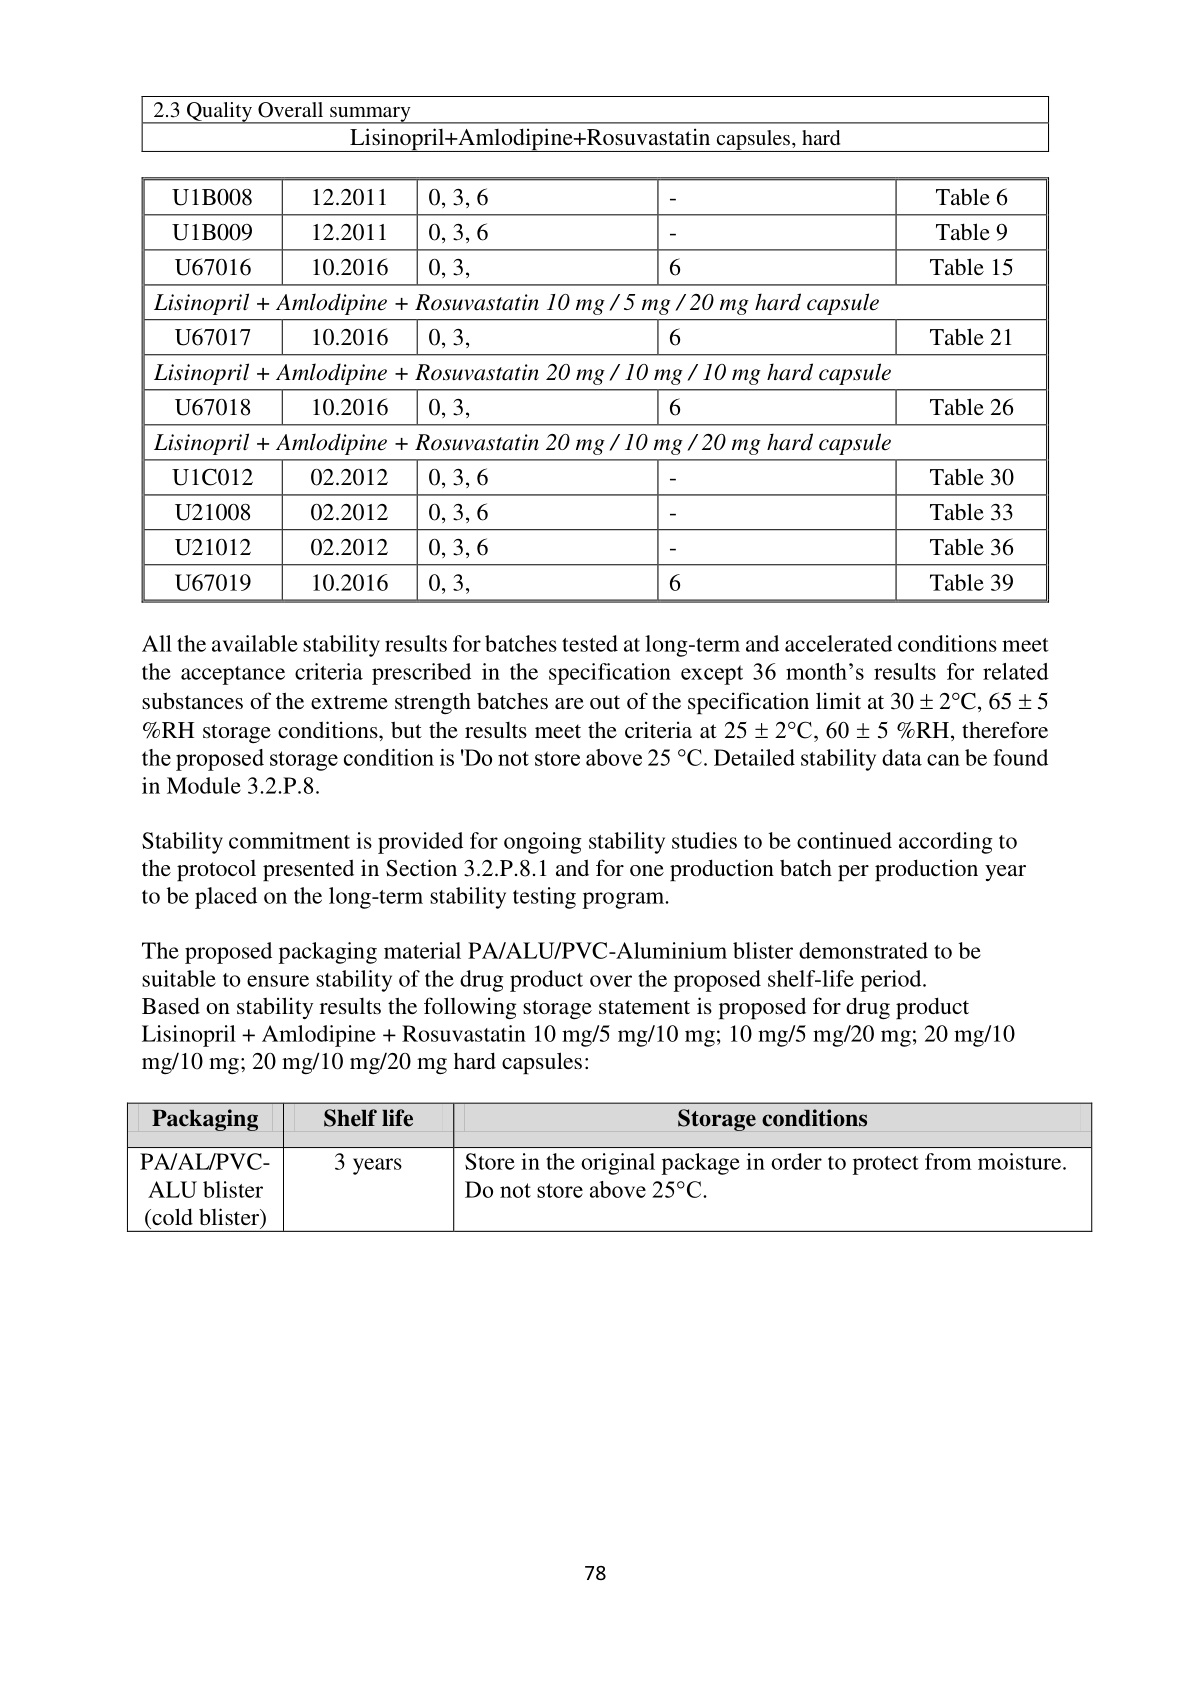full_lined: (126, 1102, 1093, 1232), (140, 95, 1049, 152)
merged_cells: (140, 177, 1051, 604)
